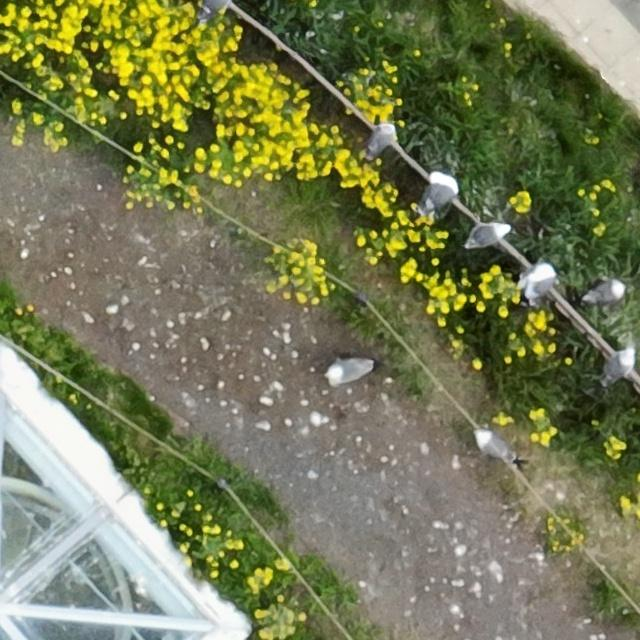umineko: (524, 265, 556, 301), (480, 432, 517, 462), (426, 174, 455, 210), (604, 350, 636, 382), (467, 223, 508, 246), (367, 124, 395, 157), (329, 360, 370, 382), (584, 281, 623, 303), (199, 0, 230, 16)
